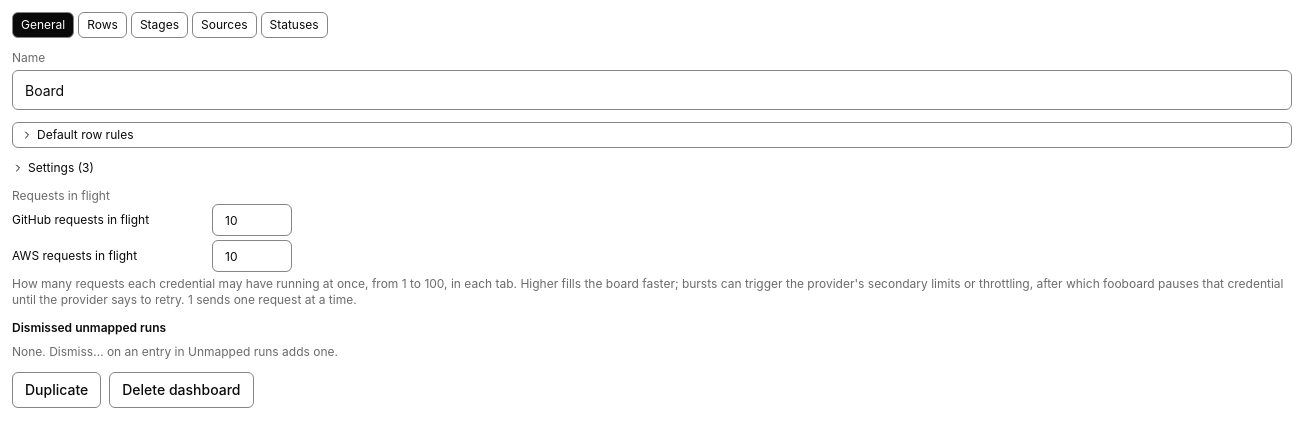
Test case: Statuses tab › says which set the dashboard uses: the built-in, its own choice, or an unknown id
Press the mouse on the tab "Statuses" at {"x": 294, "y": 25}, box [260, 12, 328, 38]
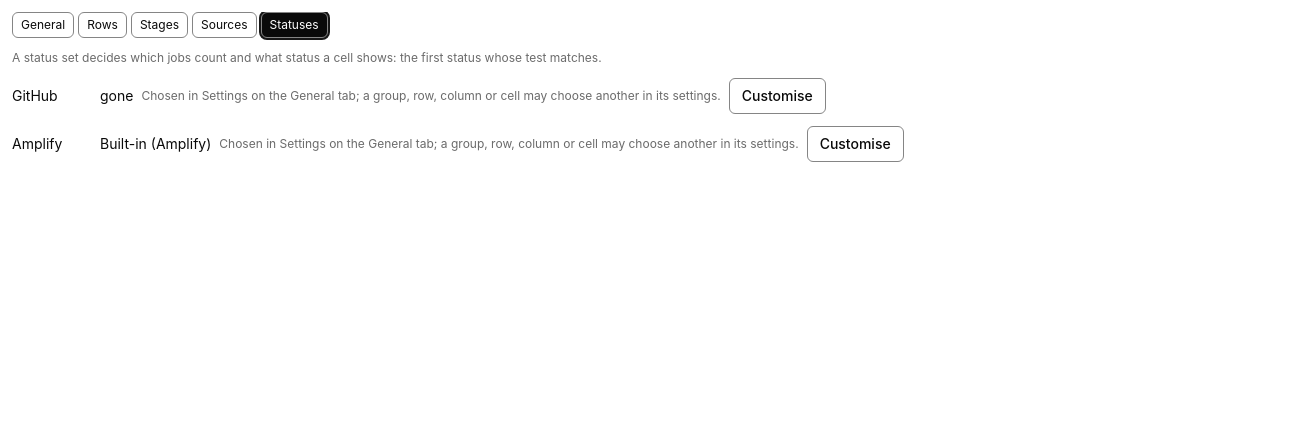
expect the text "gone" is shown: met, box [100, 86, 133, 106]
expect the text "Built-in (Amplify)" is shown: met, box [100, 134, 211, 154]
expect the text "Chosen in Settings on the General tab" is shown 2 times: met, box [141, 88, 721, 104]; [219, 136, 799, 152]
